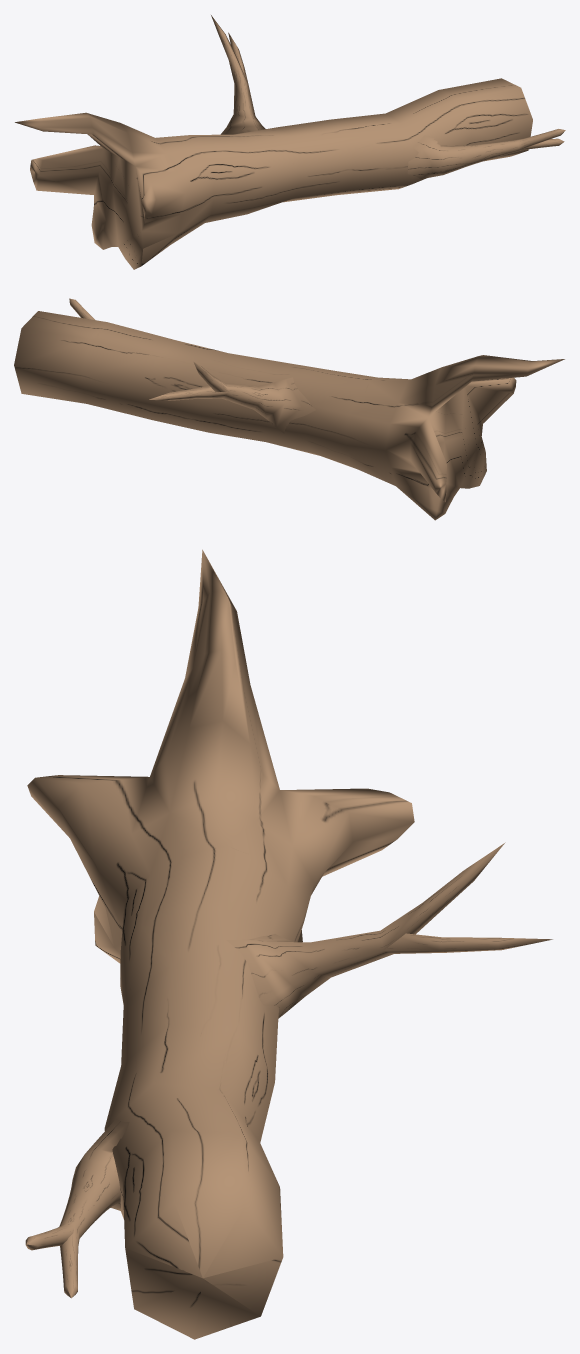
The model's file is tree_fallen.fbx.
The picture shows the model from 3 angles, top to bottom: view 1: azimuth 30°, elevation 25°; view 2: azimuth 150°, elevation 25°; view 3: azimuth 270°, elevation 25°; orthographic projection. The views are drawn at different scales.
Parts seen in each view (by area): view 1: tree_fallen; view 2: tree_fallen; view 3: tree_fallen.
Part boxes in pixels (left/top/right/bottom): tree_fallen: left=15, top=15, right=565, bottom=269; tree_fallen: left=14, top=298, right=564, bottom=520; tree_fallen: left=25, top=549, right=552, bottom=1339.
Bounding box in the file's own units: 544 × 162 × 240.
